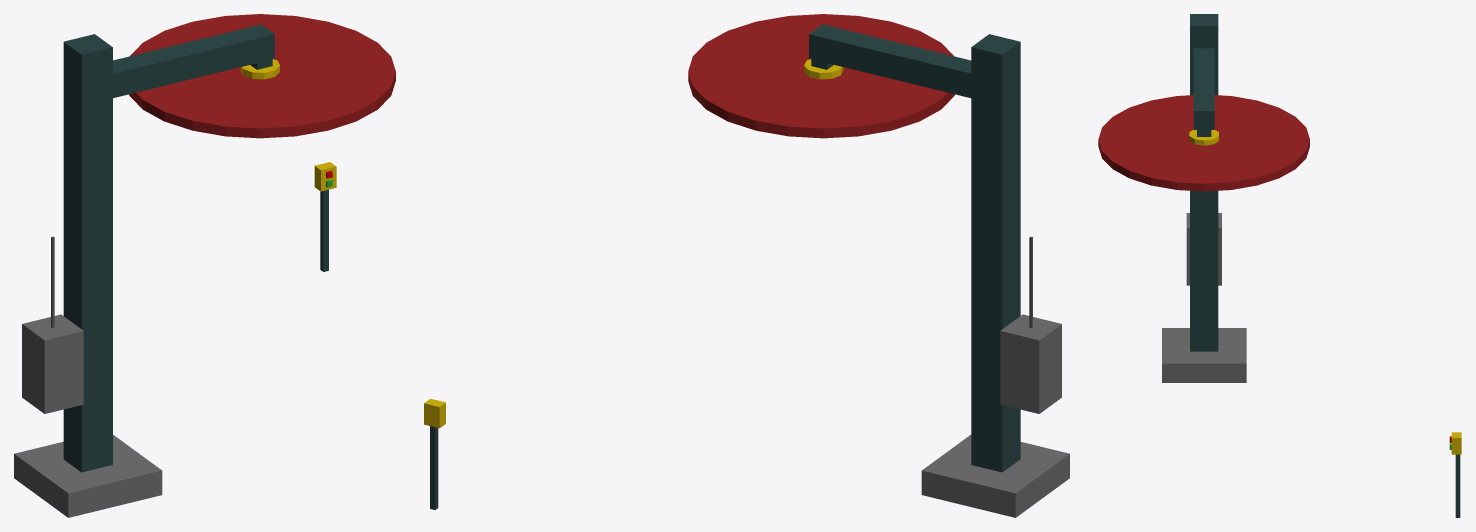
File: tbar_top.obj
3 renders of one model, left to right at view 1: azimuth 30°, elevation 25°; view 2: azimuth 150°, elevation 25°; view 3: azimuth 270°, elevation 25°, orthographic. The views are drawn at different scales.
Size of the model in its own units: 5.9 by 5.4 by 5.15.
